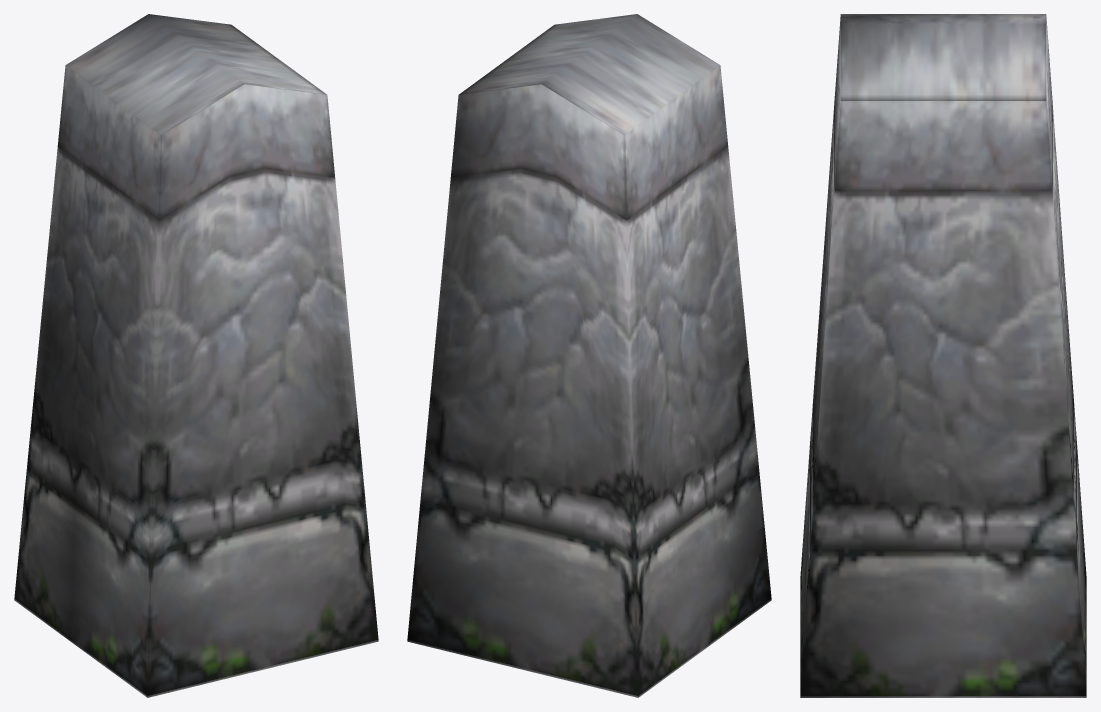
The model's file is elwynnstonefencepost.obj.
The picture shows the model from 3 angles, left to right: view 1: azimuth 30°, elevation 25°; view 2: azimuth 150°, elevation 25°; view 3: azimuth 270°, elevation 25°; orthographic projection. The views are drawn at different scales.
Visible parts, largest first — view 1: elwynnstonefencepost; view 2: elwynnstonefencepost; view 3: elwynnstonefencepost.
Part boxes in pixels (x1,y1,x2,y2): elwynnstonefencepost: (14, 14, 378, 697); elwynnstonefencepost: (407, 14, 771, 697); elwynnstonefencepost: (800, 14, 1086, 697).
Bounding box in the file's own units: 0.5573 × 1.32 × 0.5573.
1 material, 1 textured.
